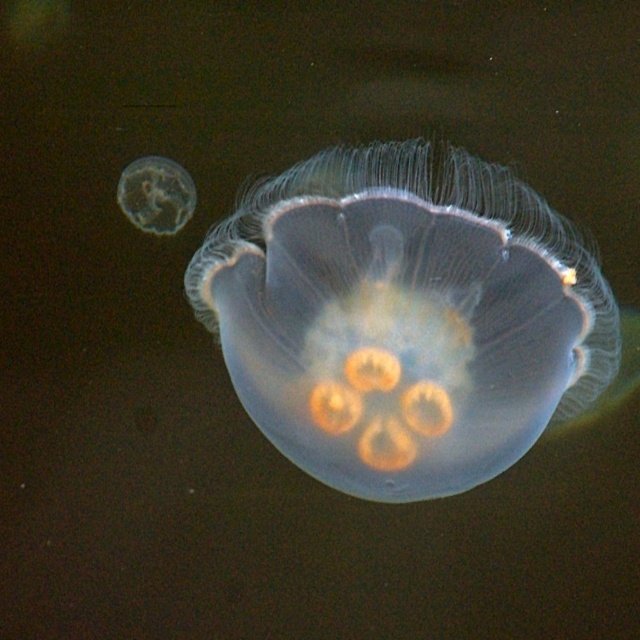Jellyfish: (179, 152, 616, 490), (119, 154, 197, 239)
